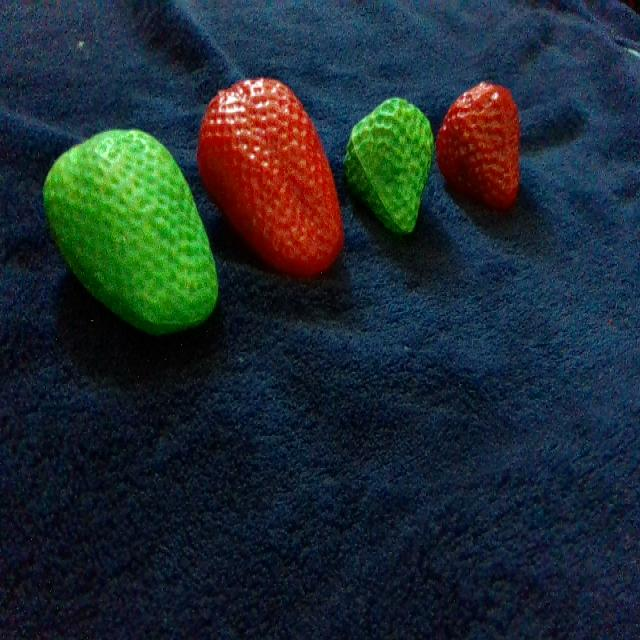chica_roja: (437, 83, 519, 209)
grande_roja: (197, 79, 343, 275)
verde: (44, 131, 217, 333), (345, 99, 433, 233)
